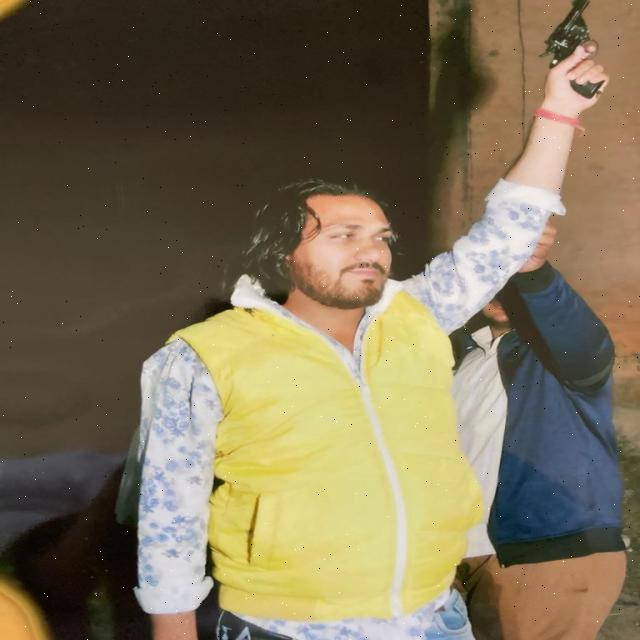gun: (524, 2, 618, 114)
